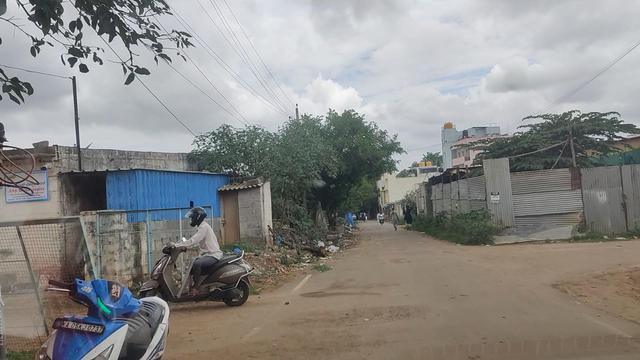LMV: (158, 200, 243, 304)
RoadDamages: (298, 307, 425, 326)
